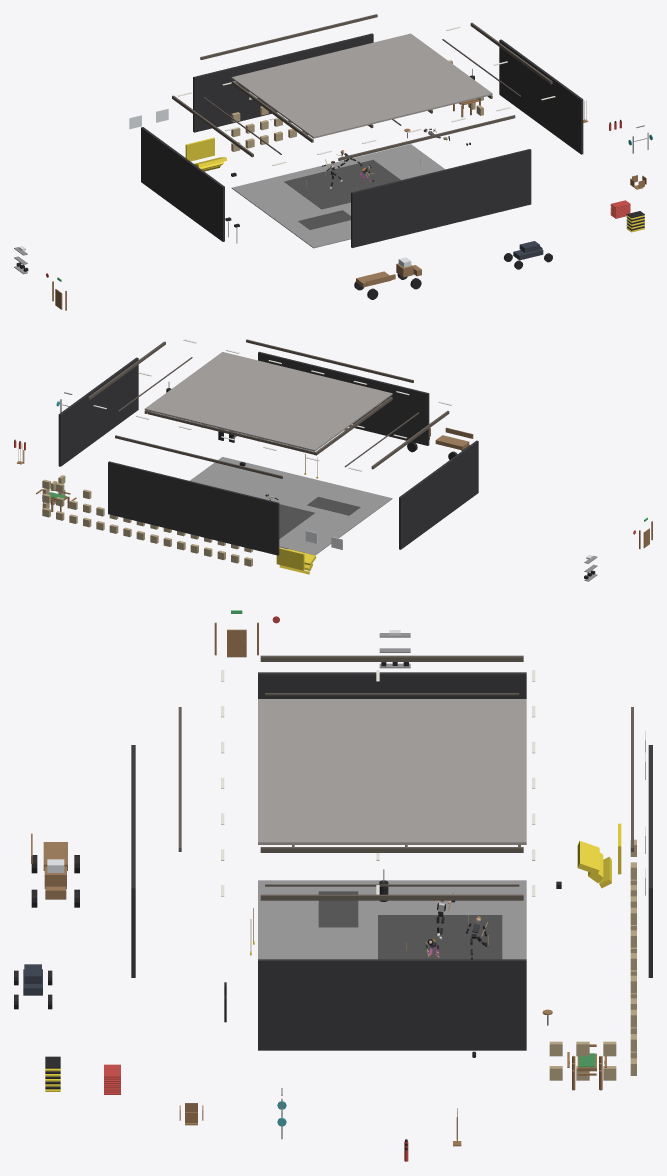
The picture shows the model from 3 angles, top to bottom: view 1: azimuth 30°, elevation 25°; view 2: azimuth 150°, elevation 25°; view 3: azimuth 270°, elevation 25°; orthographic projection. The views are drawn at different scales.
Visible parts, largest first — view 1: ceiling, wall_S, floor, wall_W, wall_E, wall_N, mats, beam2, beam2.004, mats2, yellowwall; view 2: ceiling, wall_N, floor, wall_W, wall_E, wall_S, mats, beam2, beam2.004, beam2.003, mats2, yellowwall (+3 smaller); view 3: ceiling, wall_E, floor, wall_W, mats, beam, beam.005, beam.004, mats2, wall_N, wall_S.
Part boxes in pixels (x1=…): ceiling: x1=231, y1=33, x2=492, y2=138; wall_S: x1=351, y1=149, x2=531, y2=247; floor: x1=231, y1=144, x2=445, y2=248; wall_W: x1=141, y1=127, x2=224, y2=241; wall_E: x1=499, y1=39, x2=583, y2=154; wall_N: x1=193, y1=33, x2=373, y2=132; mats: x1=284, y1=159, x2=400, y2=209; beam2: x1=338, y1=115, x2=515, y2=160; beam2.004: x1=200, y1=14, x2=377, y2=59; mats2: x1=298, y1=210, x2=350, y2=229; yellowwall: x1=185, y1=137, x2=214, y2=161; ceiling: x1=144, y1=352, x2=392, y2=451; wall_N: x1=108, y1=461, x2=279, y2=555; floor: x1=190, y1=457, x2=392, y2=555; wall_W: x1=399, y1=440, x2=478, y2=549; wall_E: x1=58, y1=357, x2=138, y2=466; wall_S: x1=258, y1=351, x2=429, y2=445; mats: x1=279, y1=504, x2=314, y2=538; beam2: x1=246, y1=339, x2=413, y2=382; beam2.004: x1=115, y1=435, x2=282, y2=478; beam2.003: x1=147, y1=411, x2=314, y2=454; mats2: x1=307, y1=497, x2=360, y2=515; yellowwall: x1=276, y1=547, x2=304, y2=570; ceiling: x1=258, y1=699, x2=526, y2=844; wall_E: x1=258, y1=959, x2=526, y2=1050; floor: x1=258, y1=880, x2=526, y2=959; wall_W: x1=258, y1=672, x2=526, y2=698; mats: x1=378, y1=915, x2=502, y2=959; beam: x1=260, y1=655, x2=523, y2=661; beam.005: x1=260, y1=894, x2=523, y2=900; beam.004: x1=260, y1=847, x2=523, y2=852; mats2: x1=318, y1=891, x2=358, y2=927; wall_N: x1=648, y1=745, x2=652, y2=977; wall_S: x1=131, y1=745, x2=135, y2=977.
Size of the model in its own units: 41.19 by 7.41 by 22.61.
